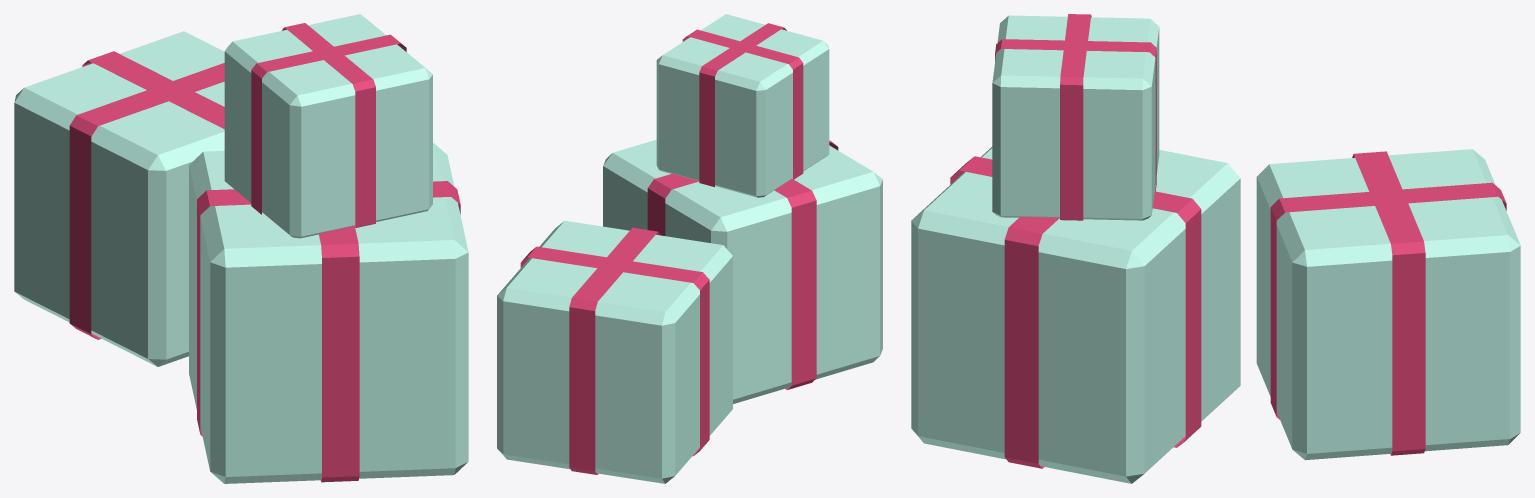
Rendered from Gaver.glb.
3 renders of one model, left to right at view 1: azimuth 30°, elevation 25°; view 2: azimuth 150°, elevation 25°; view 3: azimuth 270°, elevation 25°, orthographic. The views are drawn at different scales.
Parts seen in each view (by area): view 1: Present; view 2: Present; view 3: Present.
Boxes of the visible parts, <box> form: Present: <box>14,14,468,483</box>; Present: <box>497,14,882,483</box>; Present: <box>911,14,1520,483</box>.
Size of the model in its own units: 0.753 by 0.9437 by 1.39.
